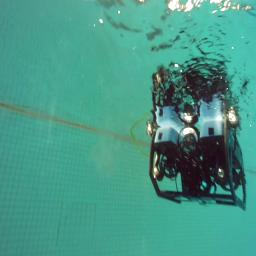front: (147, 116, 246, 210)
